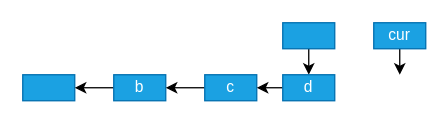
Some shapes in this 448 by 123 pixel diagram are drawn without their labels. The shapes that lost their labels are listed below. From the top down, each one's centre as x and y in pixels, then its label:
At (308,35): "pre".
At (48,87): "dummy".
